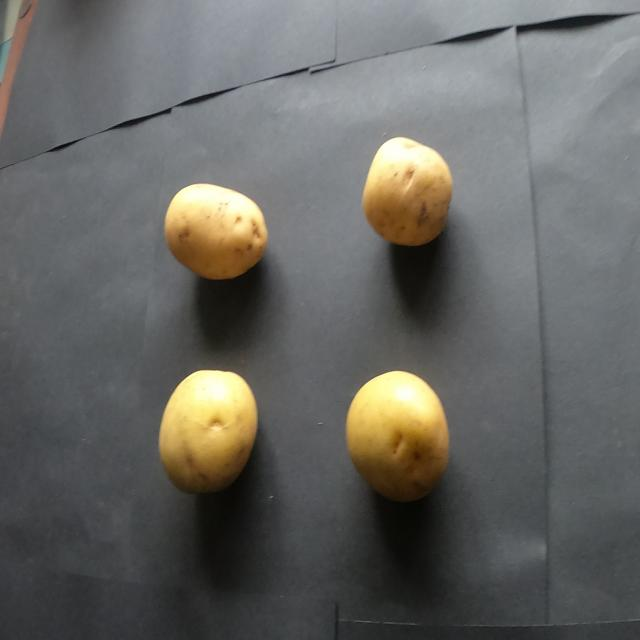Potato: (331, 356, 464, 512), (146, 354, 270, 508), (154, 171, 277, 290), (354, 123, 461, 258)
